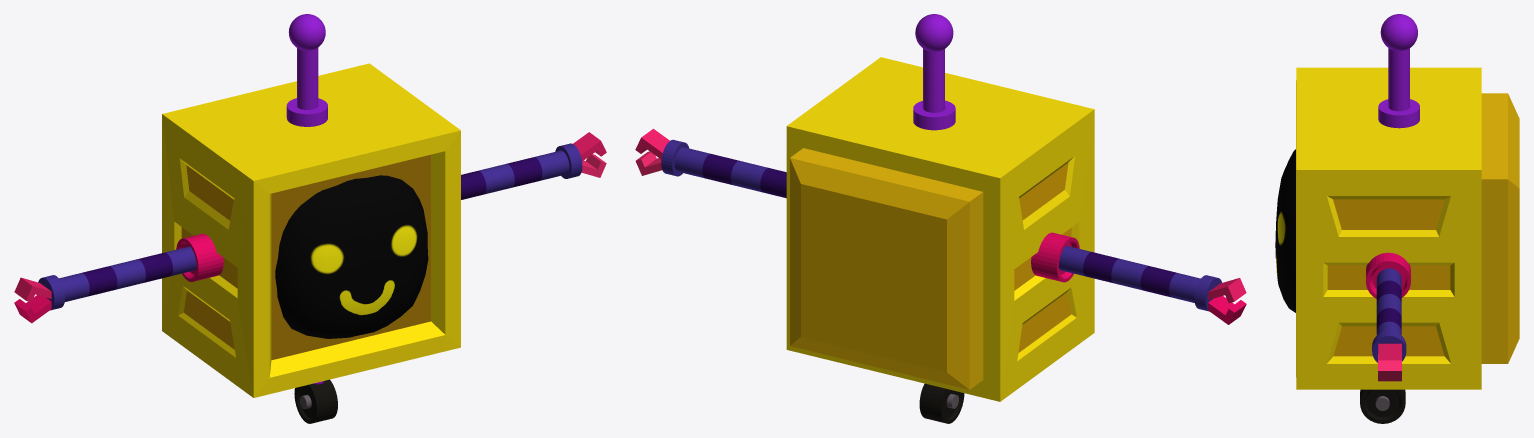
Rendered from Robot9.glb.
3 renders of one model, left to right at view 1: azimuth 30°, elevation 25°; view 2: azimuth 150°, elevation 25°; view 3: azimuth 270°, elevation 25°, orthographic. The views are drawn at different scales.
Visible parts, largest first — view 1: Cube.002, Cube.006, Cylinder.008, Cylinder.005, Cylinder.007, Cylinder.001, Cube.007, Cube.005, Cube.003; view 2: Cube.002, Cylinder.008, Cylinder.005, Cylinder.007, Cylinder.001, Cube.007, Cube.005, Cube.003; view 3: Cube.002, Cylinder.007, Cylinder.005, Cube.006, Cylinder.001, Cube.004, Cube.003.
Boxes of the visible parts, x1,y1,x2,y2 form: Cube.002: (162, 63, 460, 397); Cube.006: (275, 175, 428, 338); Cylinder.008: (38, 233, 223, 310); Cylinder.005: (461, 143, 582, 199); Cylinder.007: (286, 14, 327, 126); Cylinder.001: (294, 379, 337, 423); Cube.007: (14, 295, 51, 323); Cube.005: (14, 277, 51, 302); Cube.003: (573, 132, 606, 161); Cube.002: (786, 57, 1094, 401); Cylinder.008: (1031, 232, 1221, 311); Cylinder.005: (661, 139, 786, 198); Cylinder.007: (913, 14, 955, 130); Cylinder.001: (919, 383, 964, 423); Cube.007: (1208, 296, 1246, 324); Cube.005: (1208, 278, 1246, 303); Cube.003: (635, 128, 669, 159); Cube.002: (1296, 67, 1519, 389); Cylinder.007: (1378, 14, 1419, 128); Cylinder.005: (1366, 252, 1410, 362); Cube.006: (1275, 149, 1295, 312); Cylinder.001: (1360, 389, 1405, 423); Cube.004: (1378, 354, 1401, 381); Cube.003: (1378, 343, 1401, 360).
Bounding box in the file's own units: 2.23 × 1.46 × 0.8021.
21 materials, 4 textured.
